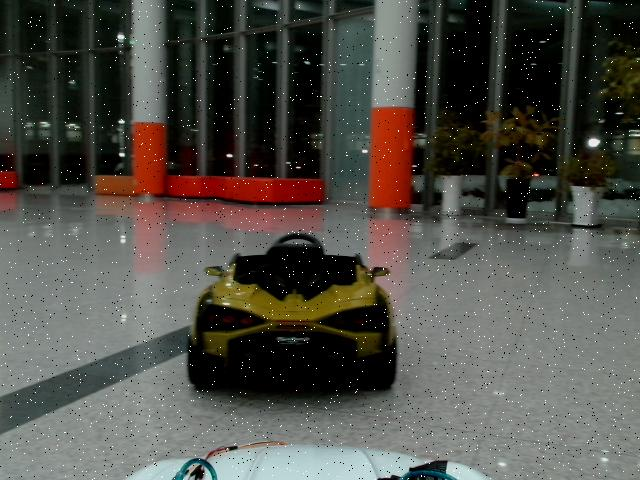car: (188, 233, 398, 392)
